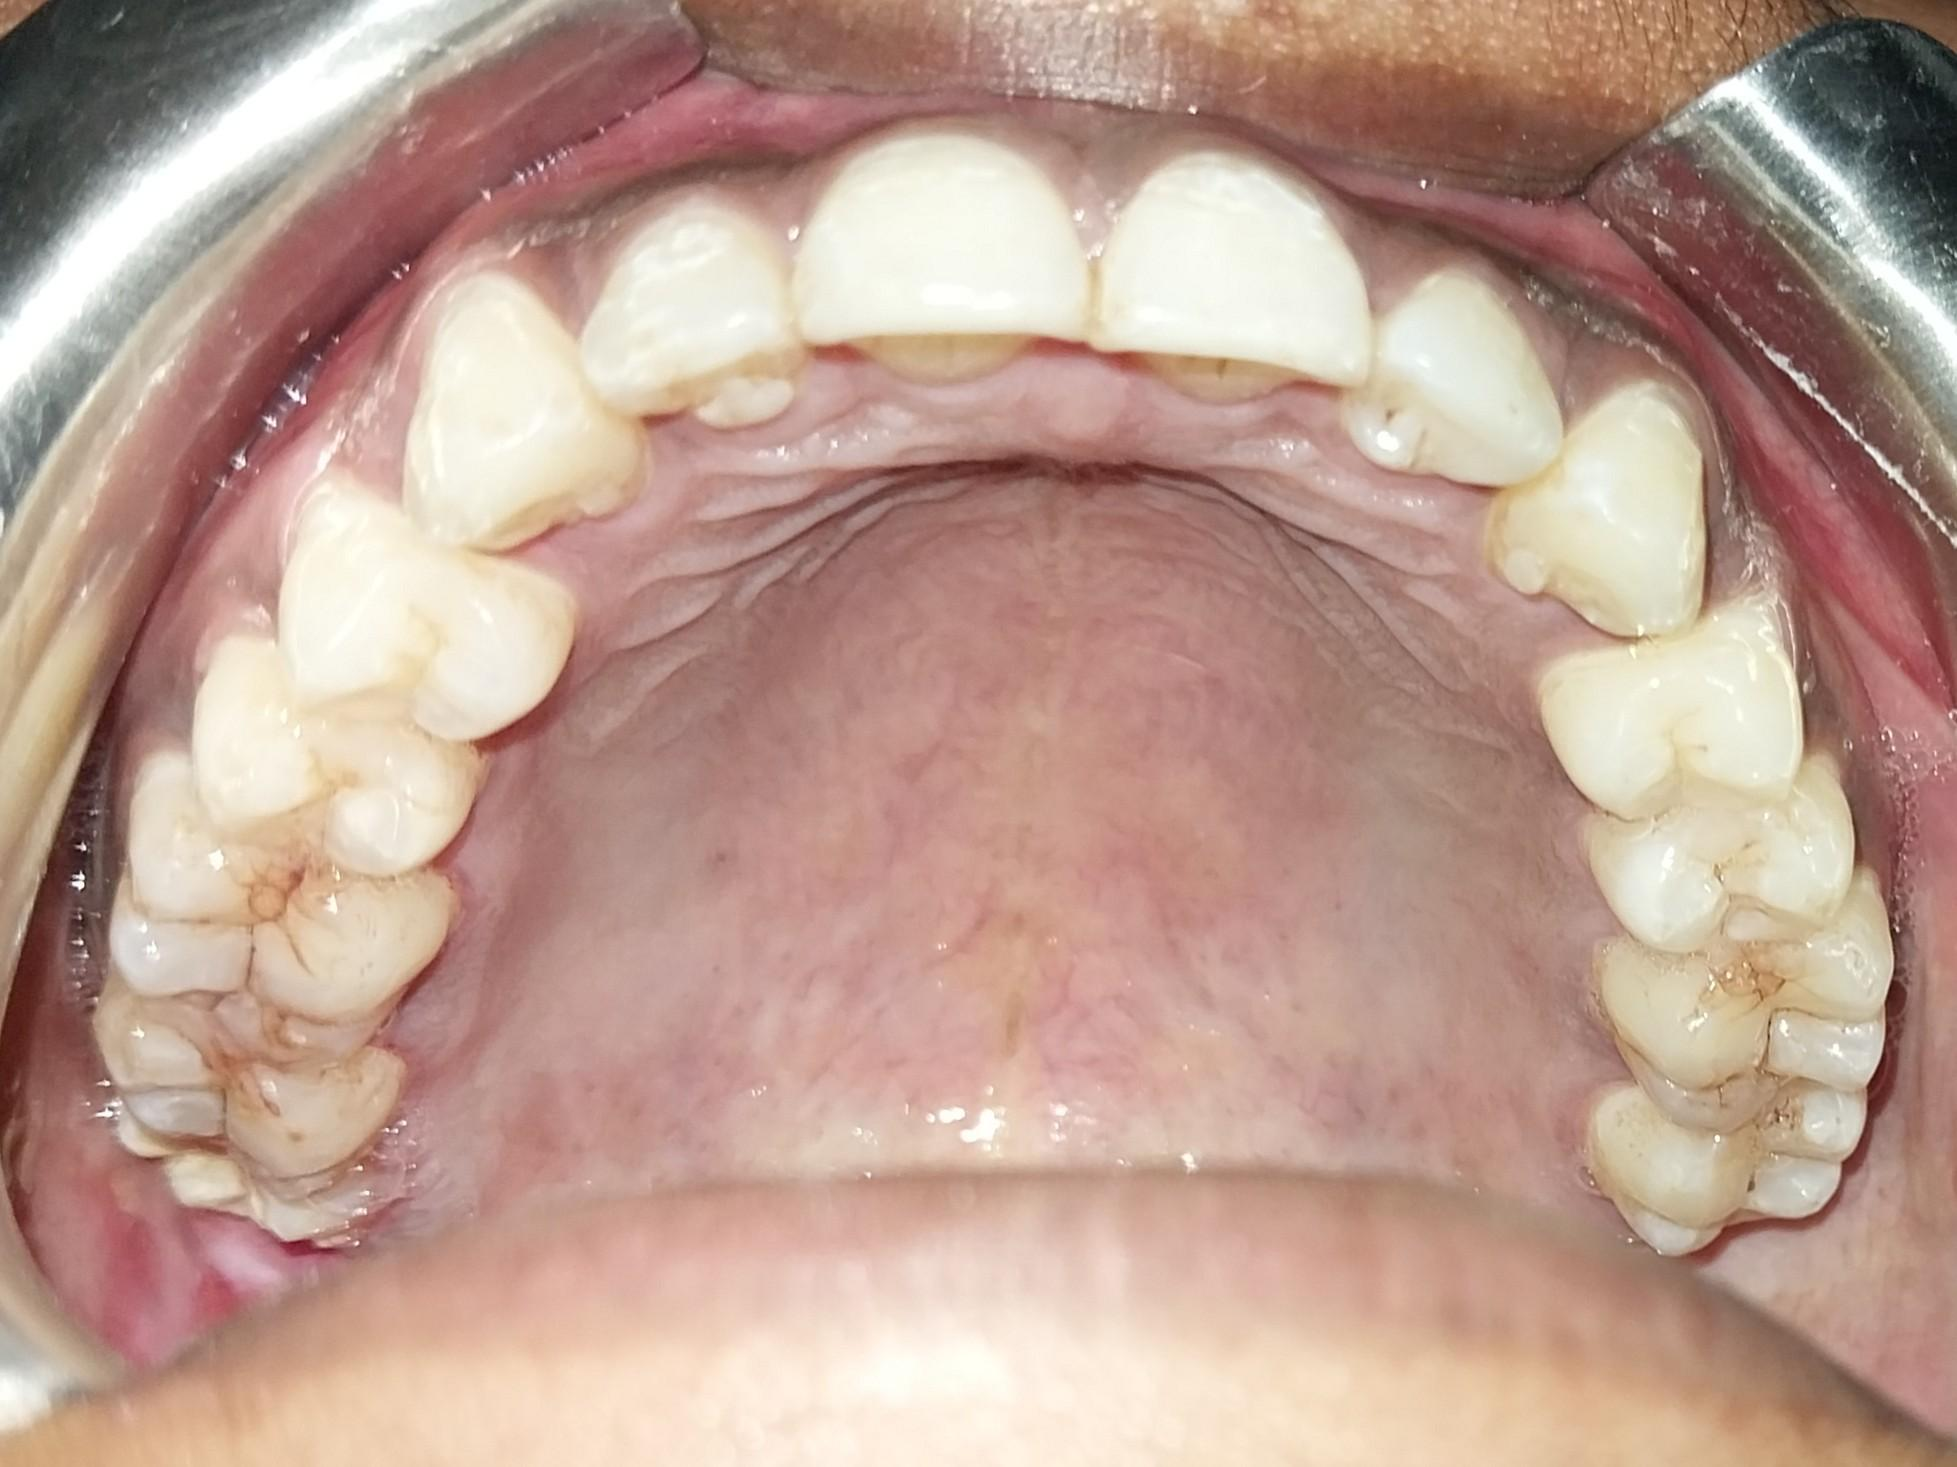D: (123, 786, 448, 1063), (68, 983, 423, 1198), (1586, 926, 1916, 1130)
